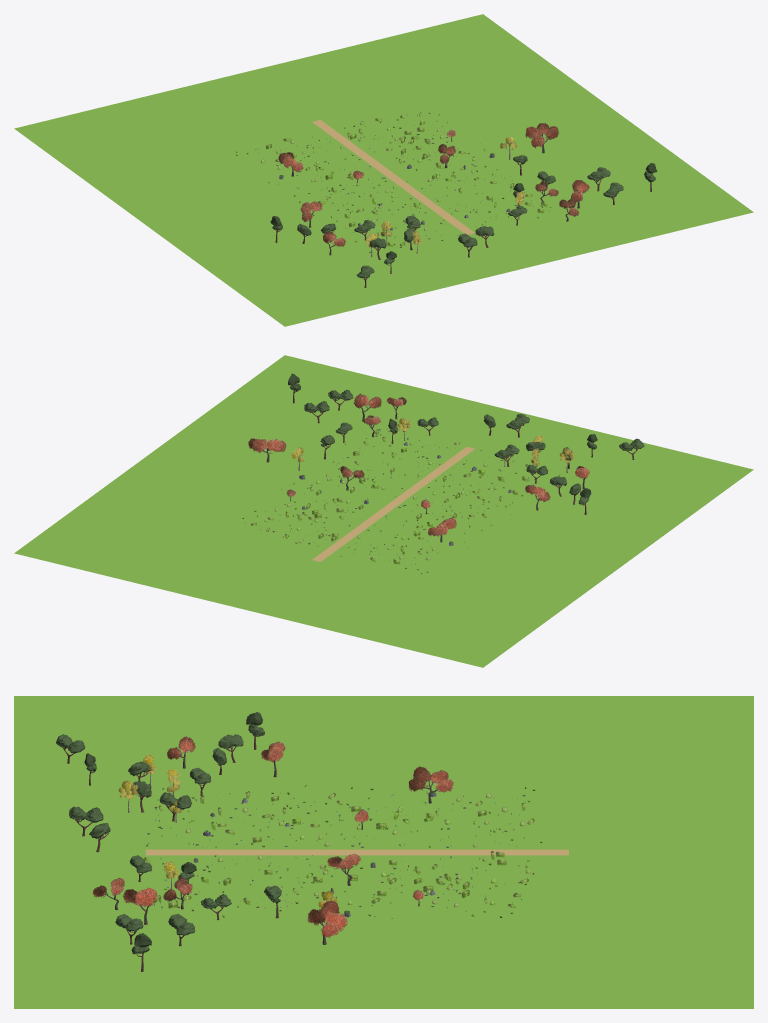
Rendered from env_meadow.glb.
3 views of the same model, one above another, from view 1: azimuth 30°, elevation 25°; view 2: azimuth 150°, elevation 25°; view 3: azimuth 270°, elevation 25° (orthographic). The views are drawn at different scales.
Visible parts, largest first — view 1: ground, path, MapleTree_3; view 2: ground, path; view 3: ground, path, MapleTree_3 (×2), MapleTree_1.
Boxes of the visible parts, x1=… form: ground: x1=14, y1=14, x2=753, y2=326; path: x1=312, y1=120, x2=474, y2=234; MapleTree_3: x1=525, y1=123, x2=558, y2=153; ground: x1=14, y1=355, x2=753, y2=667; path: x1=312, y1=446, x2=474, y2=561; ground: x1=14, y1=696, x2=753, y2=1008; path: x1=146, y1=849, x2=568, y2=855; MapleTree_3 (×2): x1=307, y1=766, x2=453, y2=944; MapleTree_1: x1=122, y1=887, x2=157, y2=924.
Bounding box in the file's own units: 140 × 8.16 × 140.
Materials: 16 (7 with a texture image).
